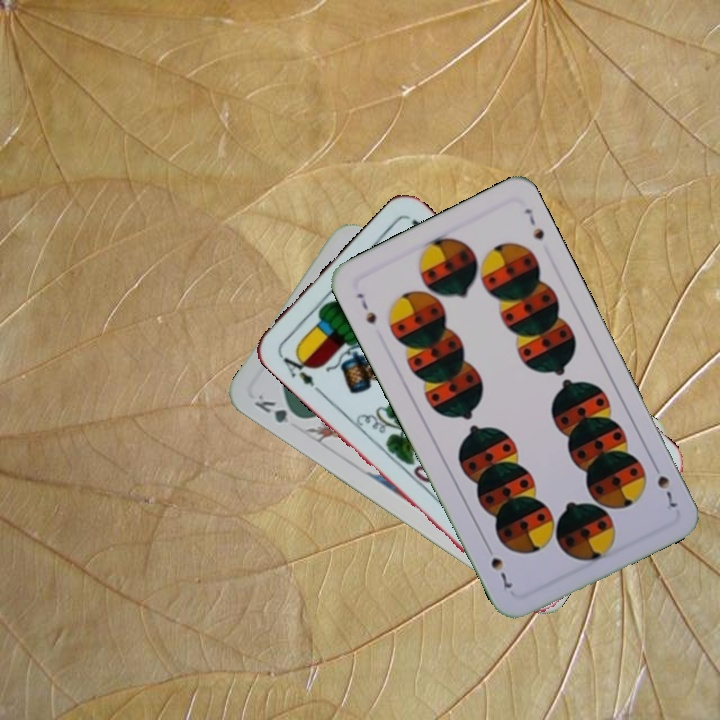EA: (275, 347, 323, 395)
GK: (250, 390, 306, 427)
S7: (648, 457, 680, 513), (353, 288, 379, 327)
